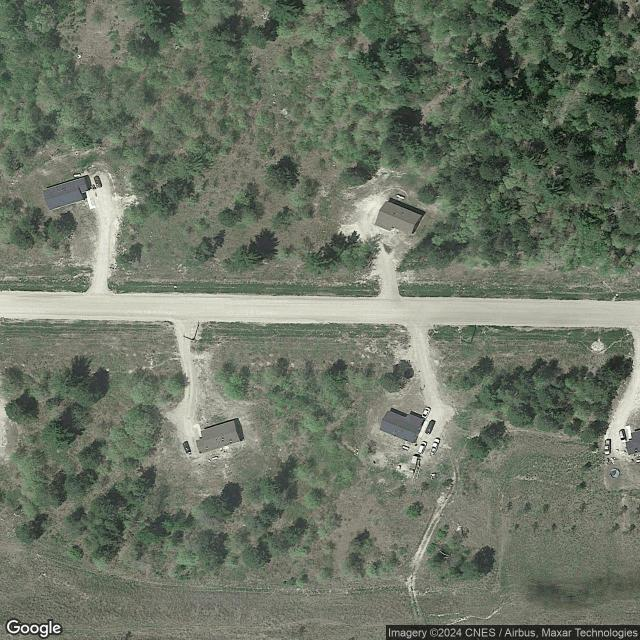Propane: (394, 193, 406, 200), (401, 444, 410, 451), (211, 455, 220, 461), (73, 172, 82, 178), (635, 458, 640, 463)
